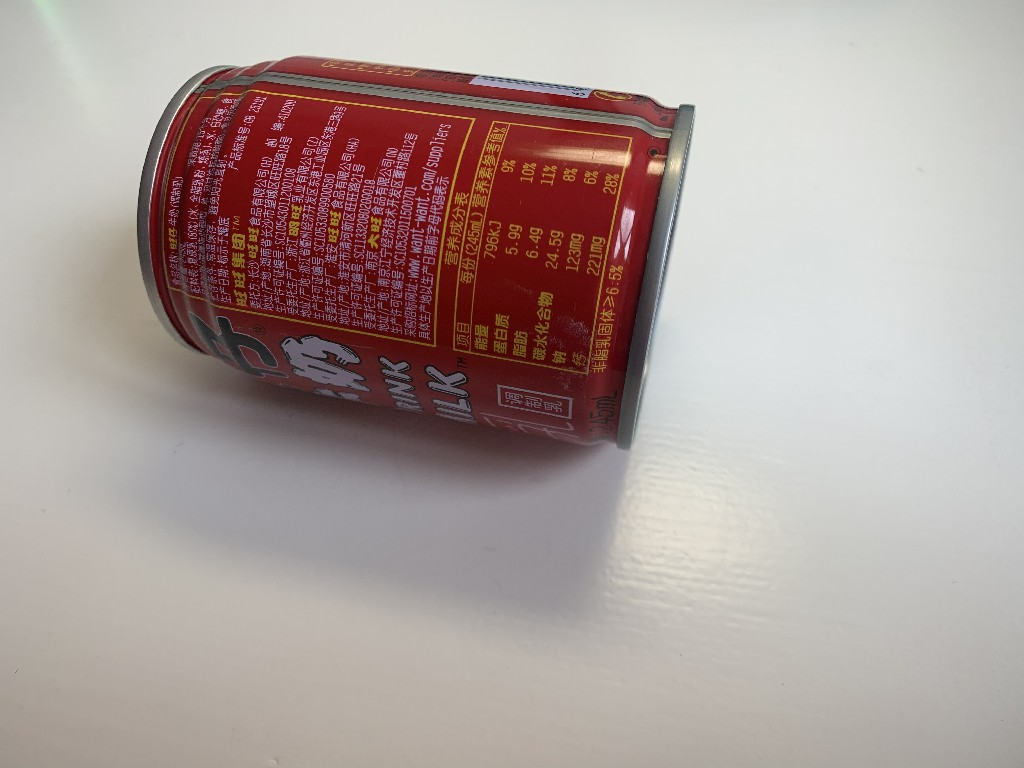can: (131, 52, 698, 458)
